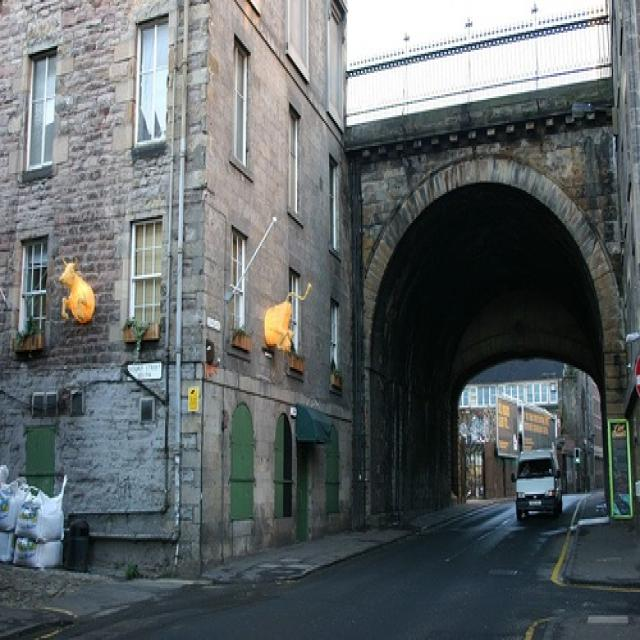car: (511, 446, 563, 523)
